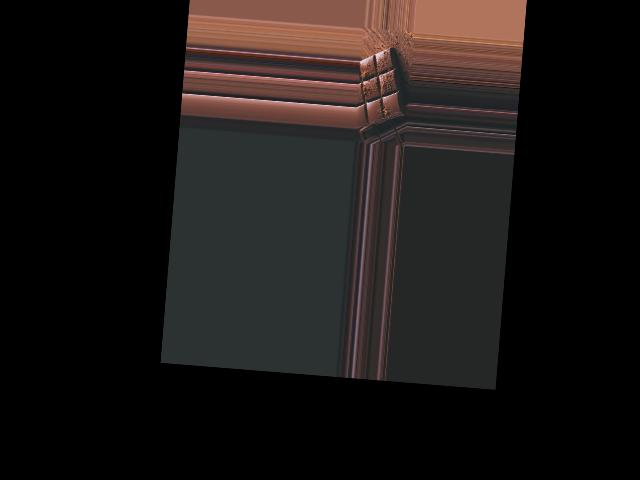chocolate: (355, 41, 409, 133)
